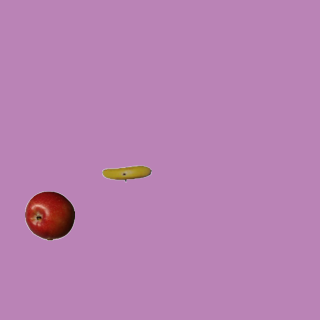Apple Braeburn: (24, 190, 74, 240)
Banana: (101, 148, 151, 198)
